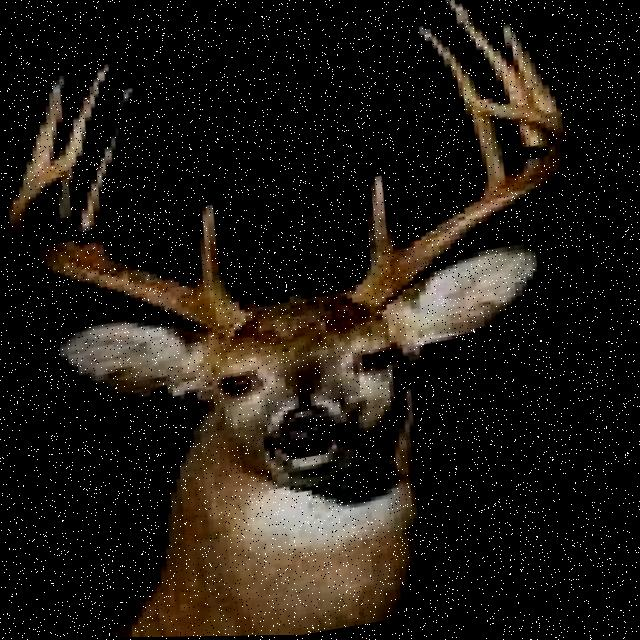L-F: (353, 97, 580, 311)
L-G1: (369, 173, 399, 270)
R-F: (12, 161, 251, 351)
R-G1: (201, 204, 233, 297)
R-G2: (74, 82, 136, 245)
